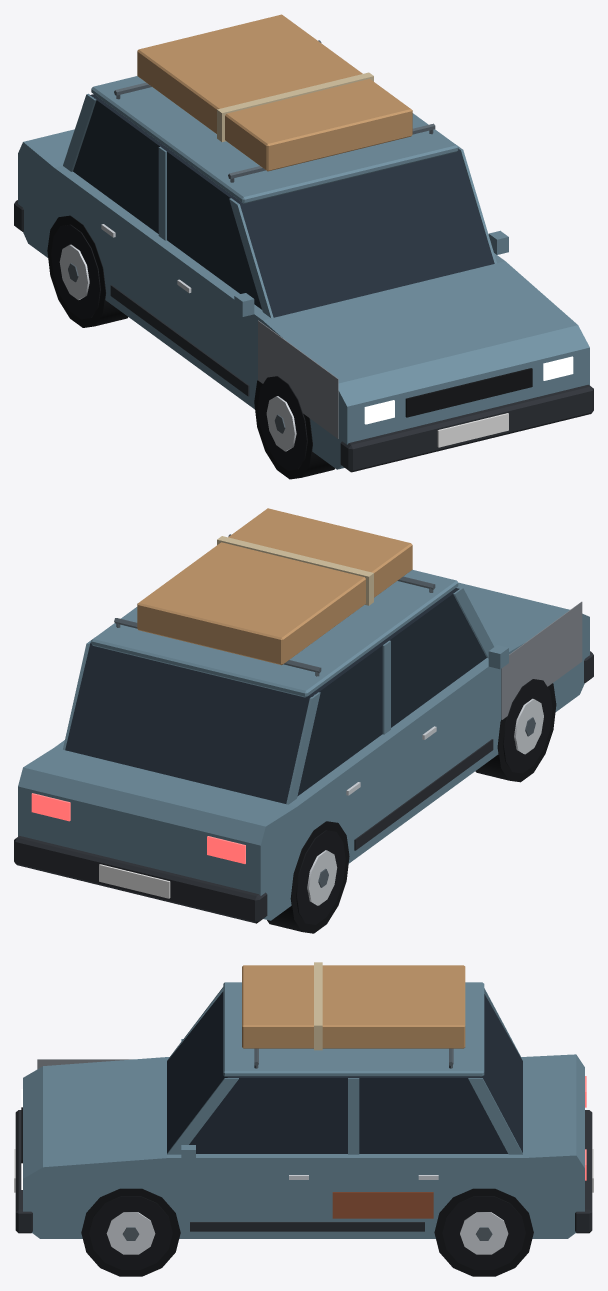
File: beater.glb
3 views of the same model, one above another, from view 1: azimuth 30°, elevation 25°; view 2: azimuth 150°, elevation 25°; view 3: azimuth 270°, elevation 25° (orthographic). The views are drawn at different scales.
Visible parts, largest first — view 1: beater; view 2: beater; view 3: beater.
Boxes of the visible parts, x1=… form: beater: x1=14, y1=14, x2=593, y2=479; beater: x1=14, y1=508, x2=593, y2=933; beater: x1=14, y1=962, x2=593, y2=1276.
Size of the model in its own units: 1.82 by 1.78 by 4.02.
